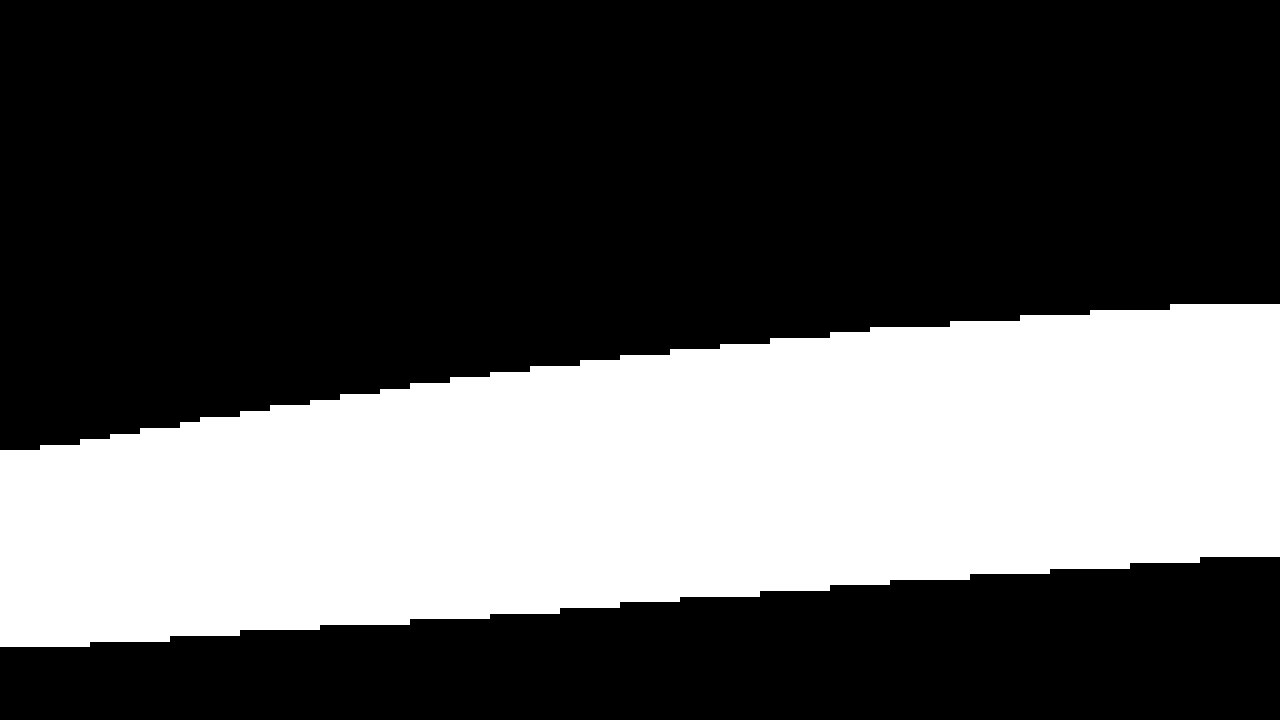Turbine: (8, 281, 1277, 671)
